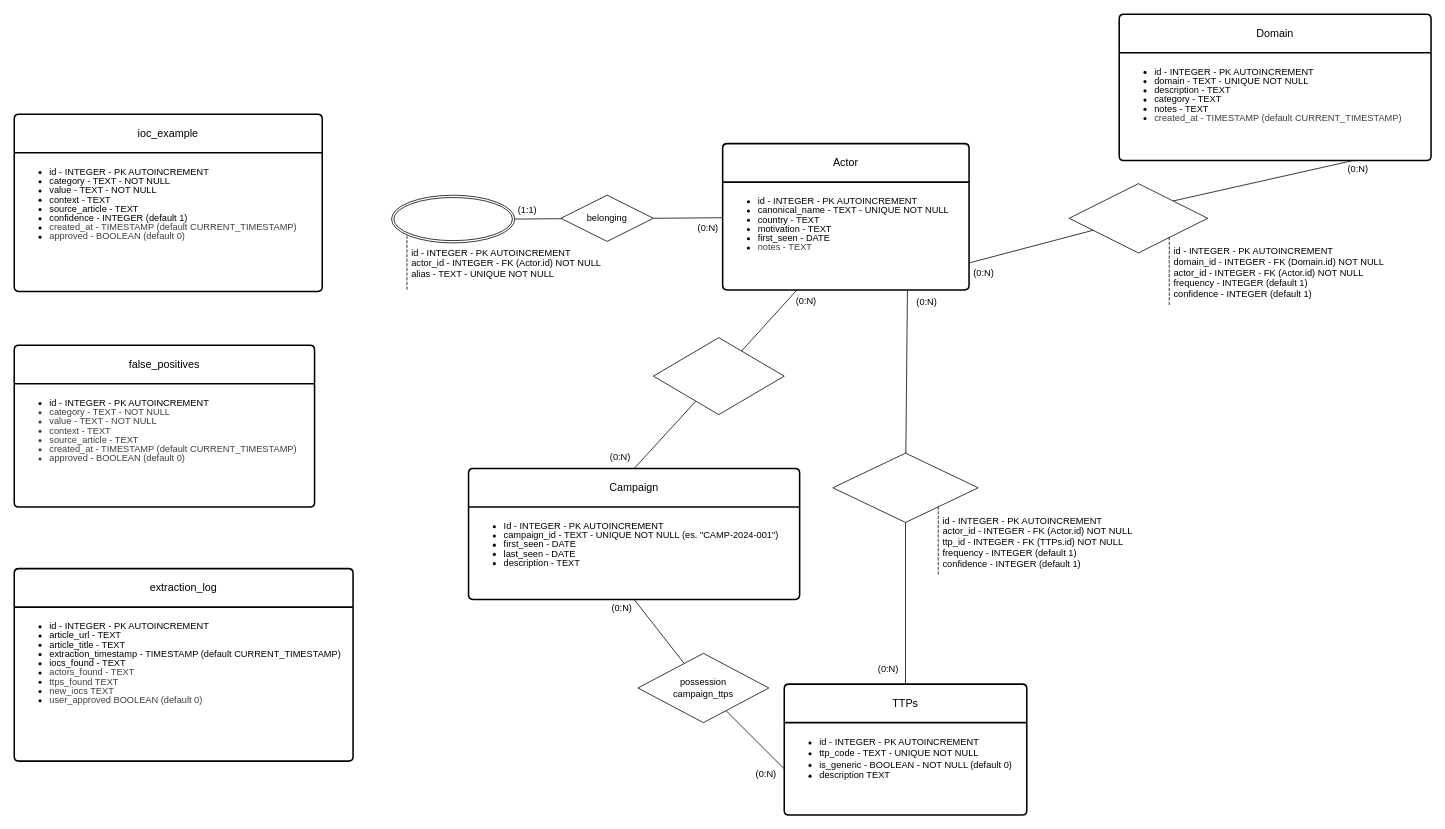
Some shapes in this 1445 by 829 pixel diagram are drawn without their labels. Here are the shapes that lost their labels. From the top down, the centre of each, then its label:
pixel 453 218: Actor_Alias
pixel 1138 218: learning actor_domains_pattern
pixel 718 376: involvement campaign_actors
pixel 905 487: learning actor_attps_patterns
